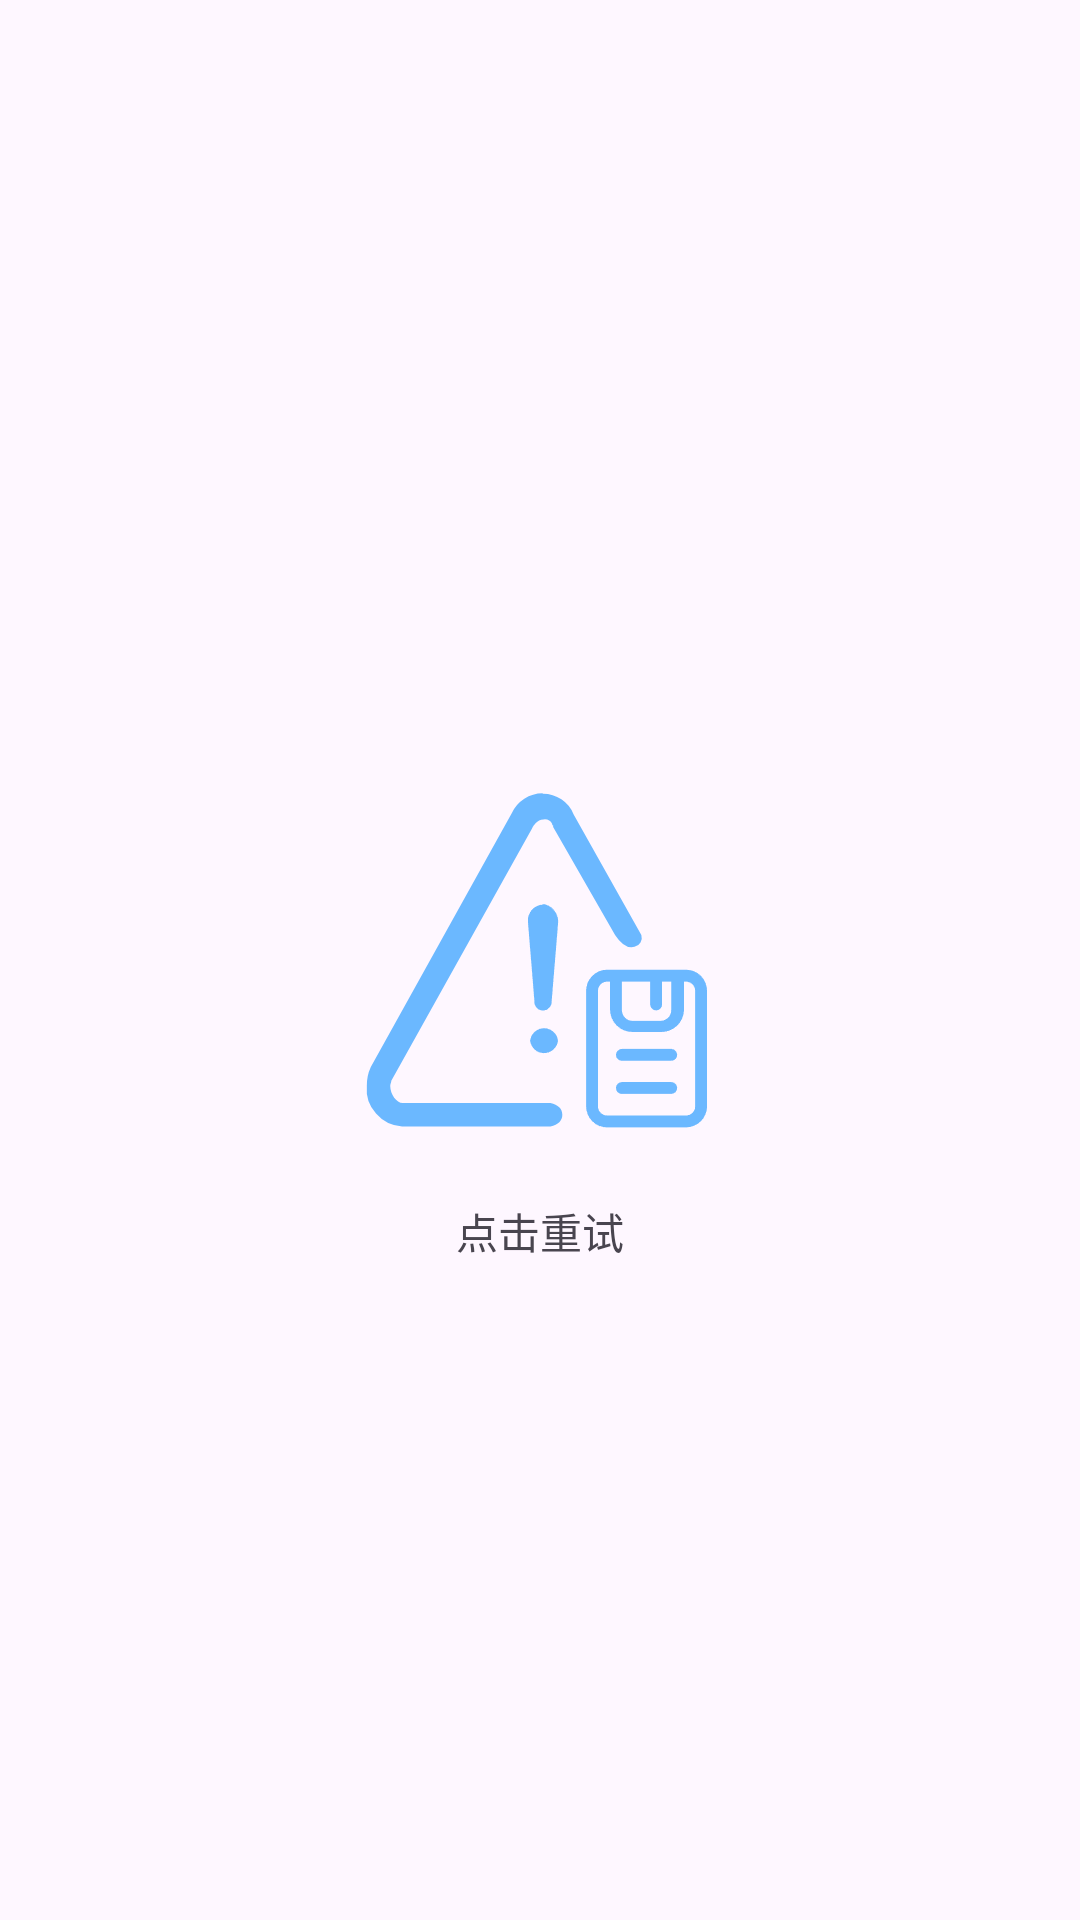

Point at icon controls on the screen. Image size 1080x1920, points as (x=x, y=y).
error: (x=537, y=960)
